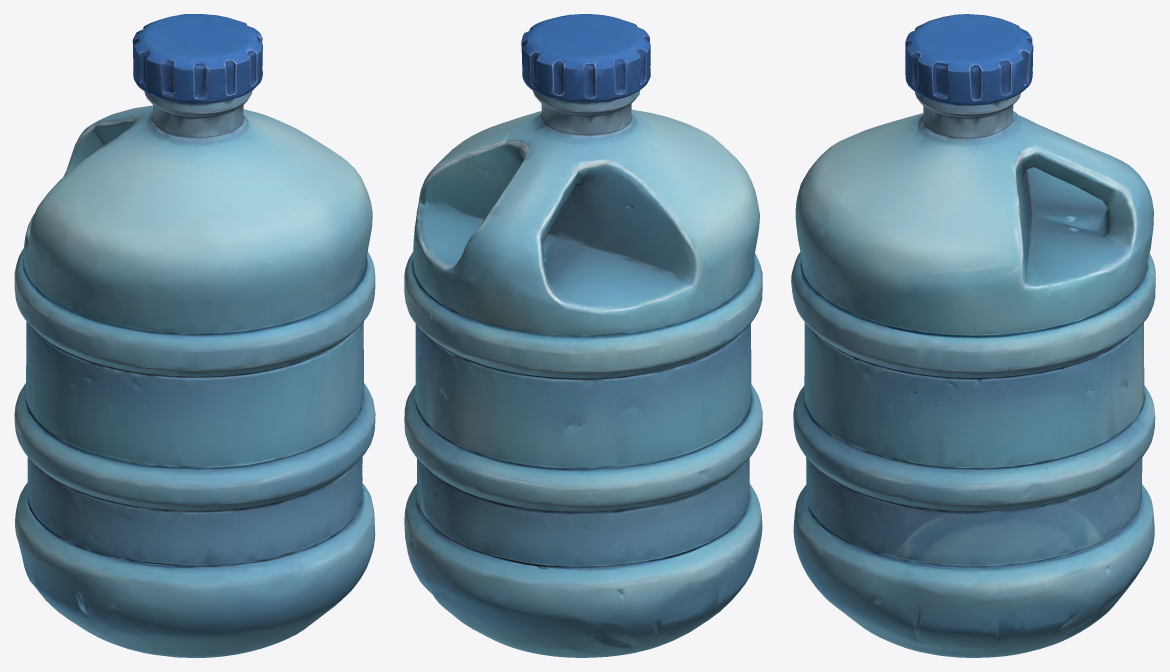
File: frasco.glb
The picture shows the model from 3 angles, left to right: view 1: azimuth 30°, elevation 25°; view 2: azimuth 150°, elevation 25°; view 3: azimuth 270°, elevation 25°; orthographic projection.
Parts seen in each view (by area): view 1: tripo_node_96f24b01-0d30-4ae1-b6a9-c960d8d3eb72; view 2: tripo_node_96f24b01-0d30-4ae1-b6a9-c960d8d3eb72; view 3: tripo_node_96f24b01-0d30-4ae1-b6a9-c960d8d3eb72.
Part boxes in pixels (x1=…): tripo_node_96f24b01-0d30-4ae1-b6a9-c960d8d3eb72: x1=14, y1=14, x2=375, y2=657; tripo_node_96f24b01-0d30-4ae1-b6a9-c960d8d3eb72: x1=404, y1=14, x2=762, y2=657; tripo_node_96f24b01-0d30-4ae1-b6a9-c960d8d3eb72: x1=791, y1=14, x2=1155, y2=657.
Size of the model in its own units: 0.559 by 1 by 0.5669.
Materials: 1 (1 with a texture image).
